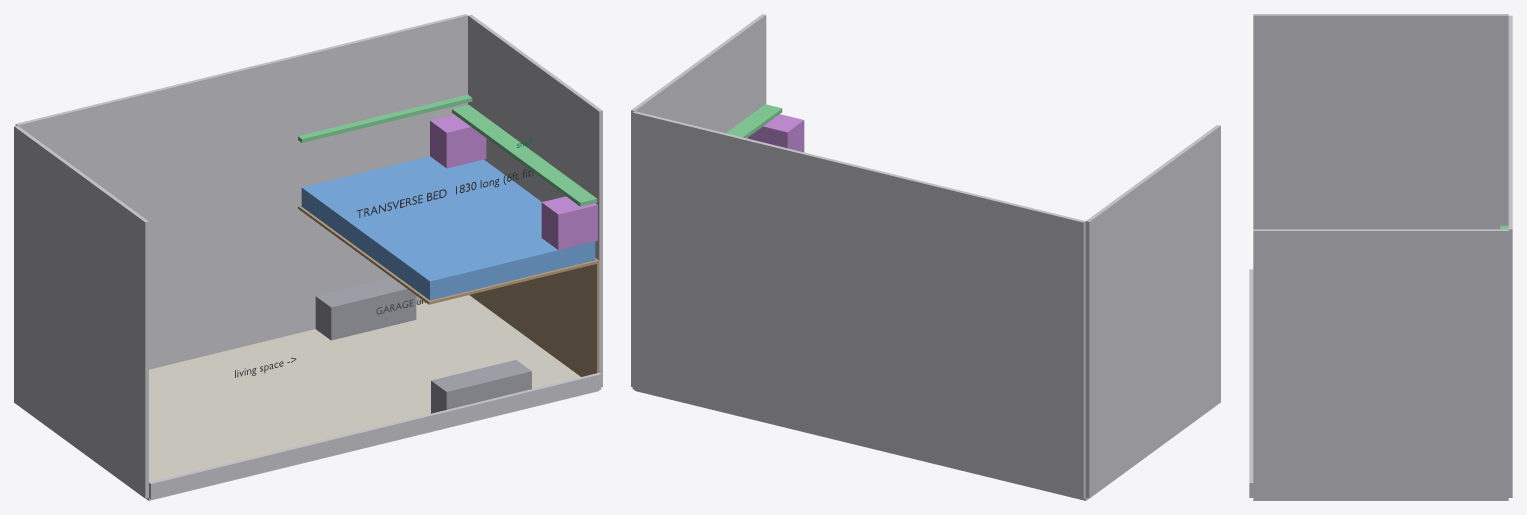
File: van_bed_transverse.glb
3 renders of one model, left to right at view 1: azimuth 30°, elevation 25°; view 2: azimuth 150°, elevation 25°; view 3: azimuth 270°, elevation 25°, orthographic. The views are drawn at different scales.
Visible parts, largest first — view 1: Wall_Road, Floor, Bulkhead, Mattress, Rear_Wall, Garage_Back, Sill_Kerb, Arch_R, Arch_K, Shelf_Rear, Night_K, Night_R (+3 smaller); view 2: Wall_Road, Bulkhead, Rear_Wall, Night_K, Shelf_Rear, Floor; view 3: Rear_Wall, Bulkhead, Wall_Road, Sill_Kerb, Floor.
Part boxes in pixels (box(x1,y1,x2,y2)): Wall_Road: box(15, 14, 467, 369); Floor: box(146, 295, 599, 500); Bulkhead: box(14, 125, 148, 498); Mattress: box(301, 156, 595, 300); Rear_Wall: box(468, 14, 602, 387); Garage_Back: box(469, 258, 599, 376); Sill_Kerb: box(149, 372, 601, 499); Arch_R: box(315, 277, 416, 340); Arch_K: box(431, 360, 531, 413); Shelf_Rear: box(452, 105, 597, 206); Night_K: box(541, 196, 597, 249); Night_R: box(430, 114, 486, 168); Wall_Road: box(632, 111, 1085, 499); Bulkhead: box(1085, 125, 1220, 498); Rear_Wall: box(631, 14, 766, 386); Night_K: box(748, 114, 804, 152); Shelf_Rear: box(726, 104, 782, 138); Floor: box(634, 390, 1088, 500); Rear_Wall: box(1253, 229, 1508, 499); Bulkhead: box(1253, 14, 1508, 229); Wall_Road: box(1508, 15, 1512, 497); Sill_Kerb: box(1249, 269, 1253, 497); Floor: box(1253, 499, 1508, 500).
Bounding box in the file's own units: 3.78 × 2.2 × 1.93.
